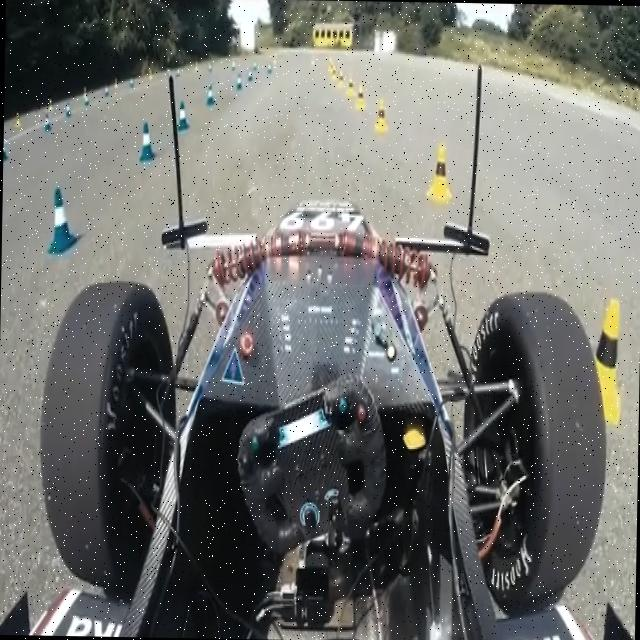blue_cone: (44, 183, 78, 255), (138, 120, 156, 162), (177, 99, 190, 133), (205, 83, 216, 108), (43, 112, 52, 134), (235, 72, 243, 91), (3, 132, 8, 161)
yellow_cone: (584, 292, 624, 424), (426, 140, 452, 205), (373, 96, 389, 133), (355, 83, 367, 110)
